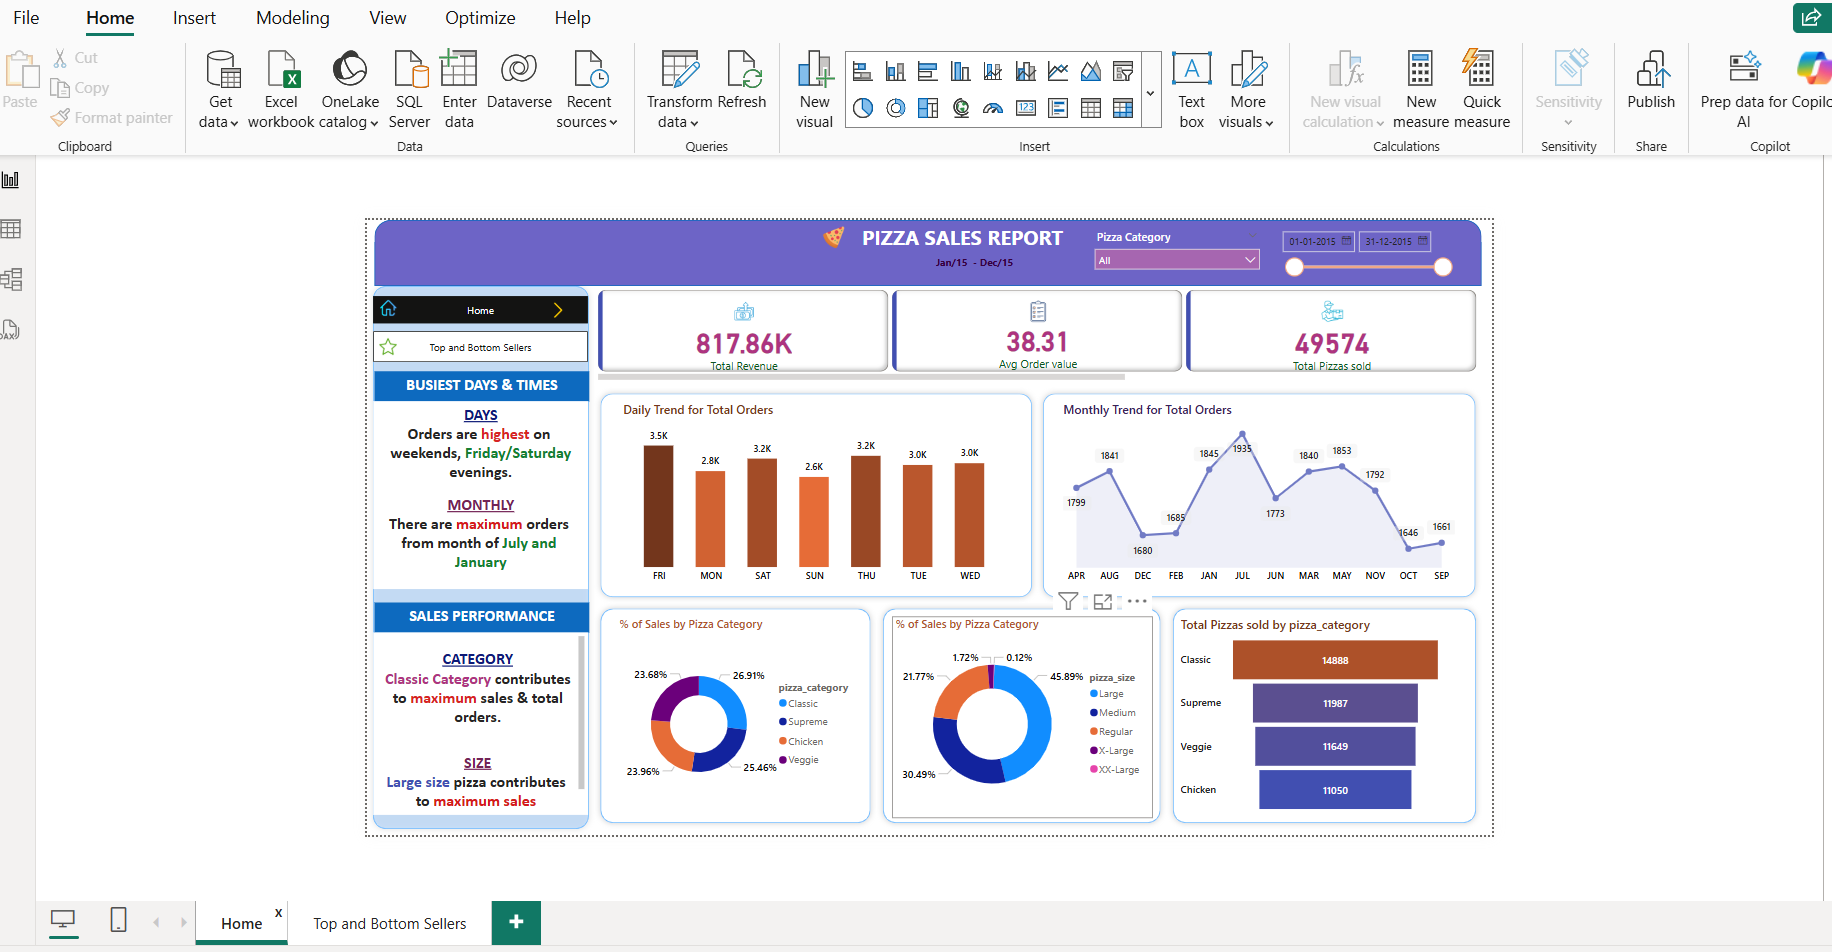

This screenshot's page, from the dashboard's own definition file:
{"tool":"powerbi","page":{"name":"Home","canvas":[1500,820],"ordinal":0},"visuals":[{"type":"shape","box":[302.5,222.5,591.2,287.5],"z":0},{"type":"columnChart","title":"Daily Trend for Total Orders ","fields":{"Y":["pizza_sales.Total Orders"],"Category":["pizza_sales.Order Day"]},"box":[336.2,241.2,521.2,251.2],"z":1000},{"type":"shape","box":[0,80,303.8,740],"z":2000},{"type":"cardVisual","fields":{"Data":["pizza_sales.Total Revenue","pizza_sales.Avg Order value","pizza_sales.Total Pizzas sold","pizza_sales.Total Orders","pizza_sales.Avg Pizzas Per Order"]},"box":[303.8,87.5,1182.5,132.5],"z":3000},{"type":"shape","box":[10,0,1476,88],"z":4000},{"type":"textbox","box":[655,0,287.5,52.5],"z":5000},{"type":"textbox","box":[754,42,124,36],"z":6000},{"type":"image","box":[590.5,4.1,64.9,39.2],"z":7000},{"type":"shape","box":[892.5,222.5,592.5,287.5],"z":8000},{"type":"areaChart","title":"Monthly Trend for Total Orders","fields":{"Category":["pizza_sales.Order Month"],"Y":["pizza_sales.Total Orders"]},"box":[923.8,241.2,532.5,251.2],"z":9000},{"type":"shape","box":[304,510,376,302],"z":10000},{"type":"shape","box":[680,510,386,302],"z":11000},{"type":"textbox","box":[9.2,202.3,286.2,40],"z":12000},{"type":"shape","box":[1066,510,420,302],"z":13000},{"type":"donutChart","title":"% of Sales by Pizza Category","fields":{"Category":["pizza_sales.pizza_category"],"Y":["pizza_sales.Total Revenue"]},"box":[332,528,322,268],"z":14000},{"type":"donutChart","title":"% of Sales by Pizza Category","fields":{"Y":["pizza_sales.Total Revenue"],"Category":["pizza_sales.pizza_size"]},"box":[700,528,348,268],"z":15000},{"type":"funnel","fields":{"Category":["pizza_sales.pizza_category"],"Y":["pizza_sales.Total Pizzas sold"]},"box":[1080,528,358,268],"z":16000},{"type":"textbox","box":[8.9,242.2,286.7,250],"z":17000},{"type":"textbox","box":[10,510,286.7,40],"z":18000},{"type":"textbox","box":[8.9,550,286.7,243.3],"z":19000},{"type":"slicer","fields":{"Values":["pizza_sales.pizza_category"]},"box":[960,6,240,76],"z":20000},{"type":"slicer","fields":{"Values":["pizza_sales.order_date"]},"box":[1208.8,5,247.5,75],"z":21000},{"type":"pageNavigator","box":[8.7,101.3,286.7,36.7],"z":22000},{"type":"pageNavigator","box":[8.7,148,286.7,41.3],"z":23000},{"type":"image","box":[234.7,104.7,40.7,30.7],"z":24000},{"type":"image","box":[0,101.3,57.3,31.3],"z":25000},{"type":"image","box":[12,148,33.3,40],"z":26000}]}

Visuals, with their boxes on the page's 1500x820 design canvas (x1, y1, x2, y2). These are canvas units, not pixel positions in the 1832x952 screenshot, which may show the page scaled, cropped or inside an application window:
shape: <box>302,222,894,510</box>
"Daily Trend for Total Orders " columnChart: <box>336,241,857,492</box>
shape: <box>0,80,304,820</box>
cardVisual - pizza_sales.Total Revenue x pizza_sales.Avg Order value: <box>304,88,1486,220</box>
shape: <box>10,0,1486,88</box>
textbox: <box>655,0,942,52</box>
textbox: <box>754,42,878,78</box>
image: <box>590,4,655,43</box>
shape: <box>892,222,1485,510</box>
"Monthly Trend for Total Orders" areaChart: <box>924,241,1456,492</box>
shape: <box>304,510,680,812</box>
shape: <box>680,510,1066,812</box>
textbox: <box>9,202,295,242</box>
shape: <box>1066,510,1486,812</box>
"% of Sales by Pizza Category" donutChart: <box>332,528,654,796</box>
"% of Sales by Pizza Category" donutChart: <box>700,528,1048,796</box>
funnel - pizza_sales.pizza_category x pizza_sales.Total Pizzas sold: <box>1080,528,1438,796</box>
textbox: <box>9,242,296,492</box>
textbox: <box>10,510,297,550</box>
textbox: <box>9,550,296,793</box>
slicer - pizza_sales.pizza_category: <box>960,6,1200,82</box>
slicer - pizza_sales.order_date: <box>1209,5,1456,80</box>
pageNavigator: <box>9,101,295,138</box>
pageNavigator: <box>9,148,295,189</box>
image: <box>235,105,275,135</box>
image: <box>0,101,57,133</box>
image: <box>12,148,45,188</box>
